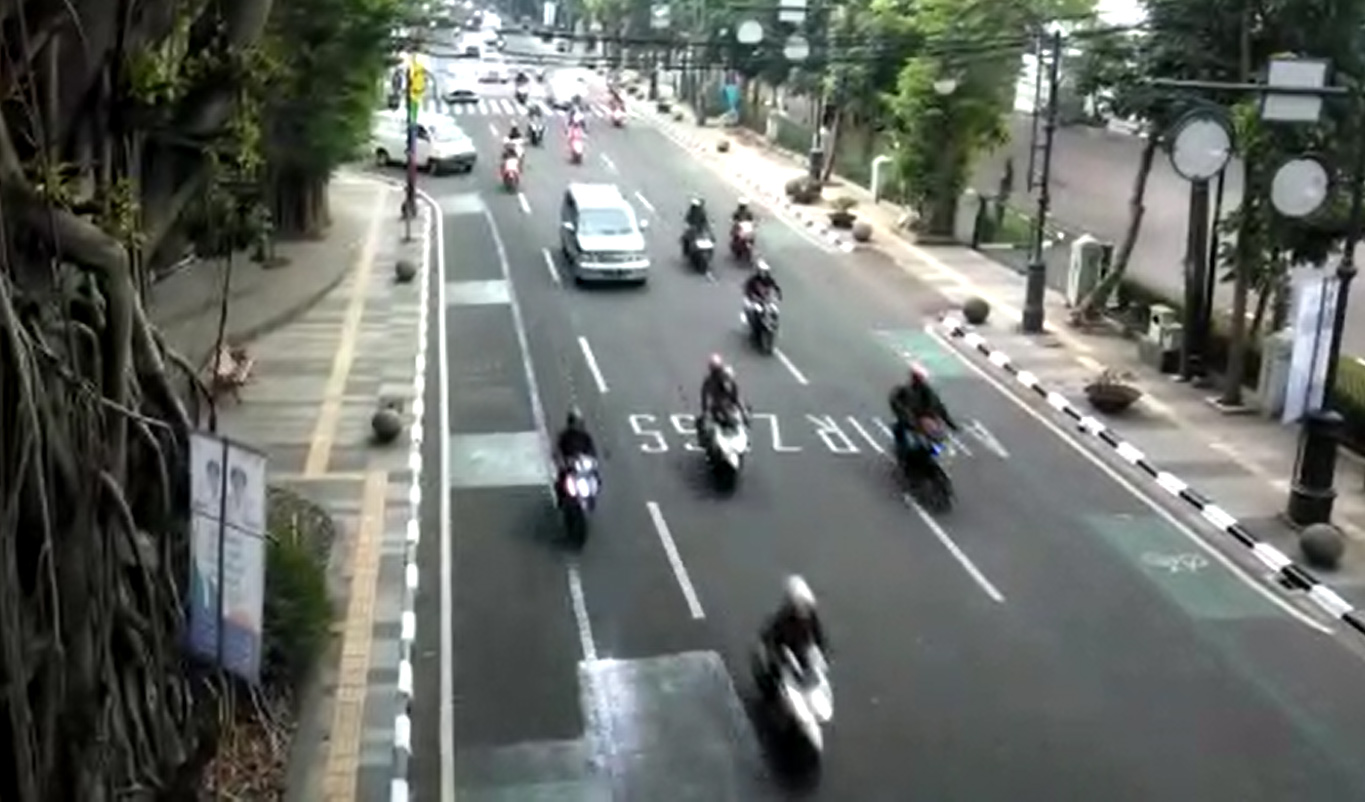mobil: (549, 170, 665, 298)
motor: (737, 565, 864, 802), (876, 354, 976, 527), (683, 346, 769, 507), (541, 395, 618, 560), (730, 254, 799, 361), (672, 187, 722, 279), (723, 192, 769, 269), (489, 135, 529, 201)
